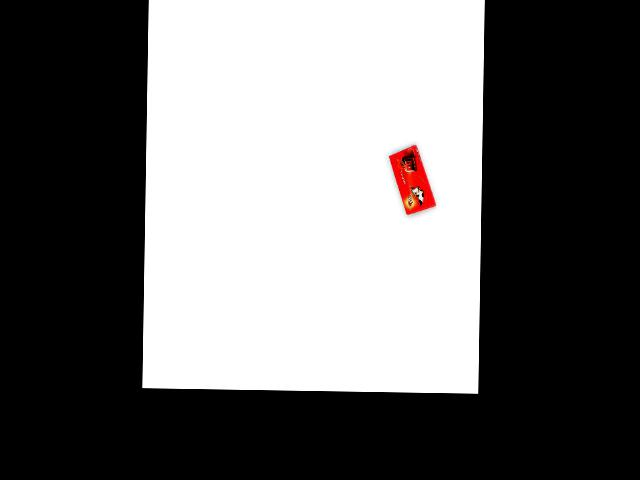chocolate: (387, 143, 437, 213)
